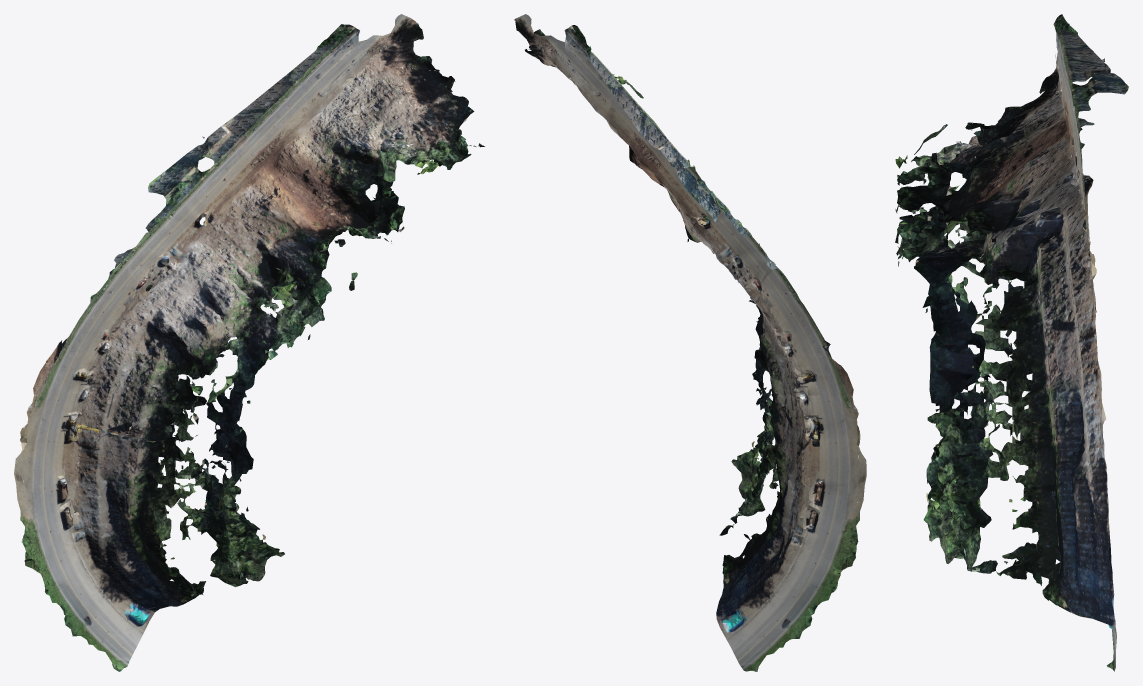
3 renders of one model, left to right at view 1: azimuth 30°, elevation 25°; view 2: azimuth 150°, elevation 25°; view 3: azimuth 270°, elevation 25°, orthographic. The views are drawn at different scales.
Visible parts, largest first — view 1: Bloco 1; view 2: Bloco 1; view 3: Bloco 1.
Part boxes in pixels (bbox=[...]): Bloco 1: bbox=[14, 14, 484, 671]; Bloco 1: bbox=[514, 14, 866, 671]; Bloco 1: bbox=[895, 14, 1128, 671].
Size of the model in its own units: 149 by 213 by 58.09.
Materials: 1 (1 with a texture image).
